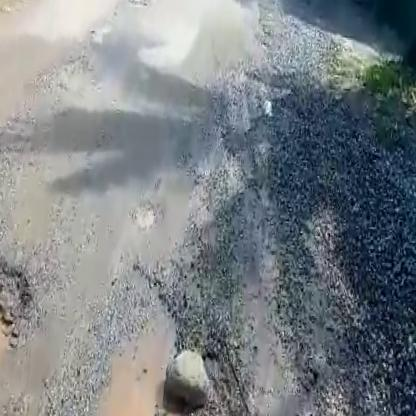pothole: (75, 291, 194, 416), (0, 232, 41, 356)
